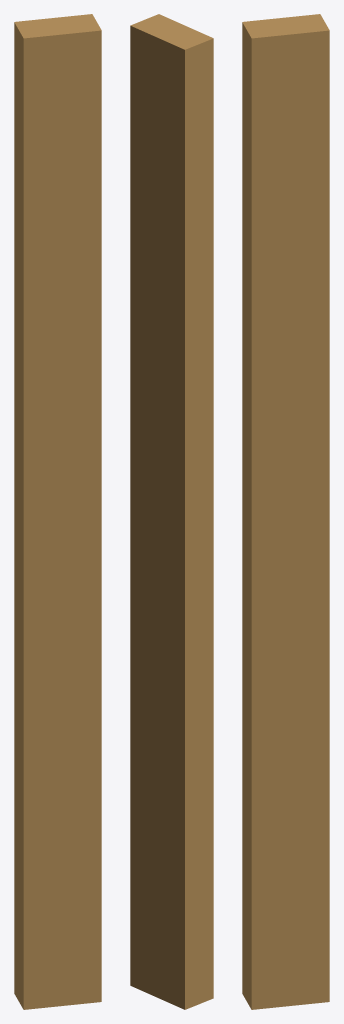
3 views of the same model, side by side, from view 1: azimuth 90°, elevation 25°; view 2: azimuth 210°, elevation 25°; view 3: azimuth 270°, elevation 25° (orthographic).
Parts seen in each view (by area): view 1: GAP-12-R-jack_stud-p3; view 2: GAP-12-R-jack_stud-p3; view 3: GAP-12-R-jack_stud-p3.
Part boxes in pixels (bbox=[...]): GAP-12-R-jack_stud-p3: bbox=[14, 14, 101, 1009]; GAP-12-R-jack_stud-p3: bbox=[130, 14, 213, 1009]; GAP-12-R-jack_stud-p3: bbox=[242, 14, 329, 1009].
Size of the model in its own units: 0.0649 by 1.2 by 0.098.
